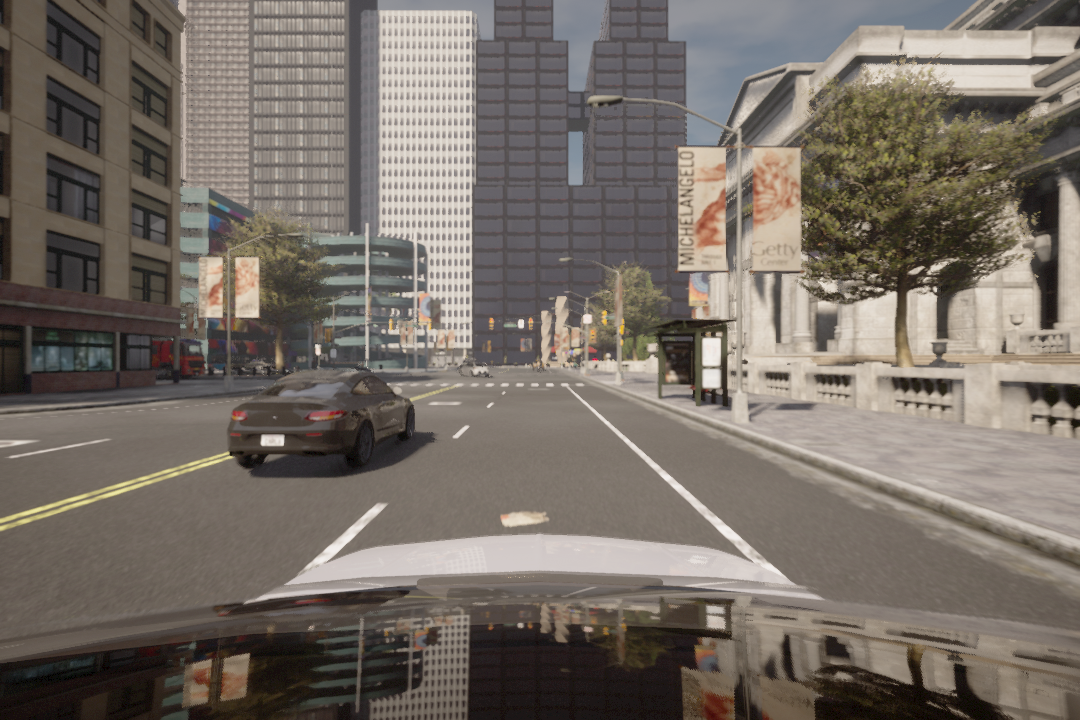walkside: (383, 381, 602, 392)
